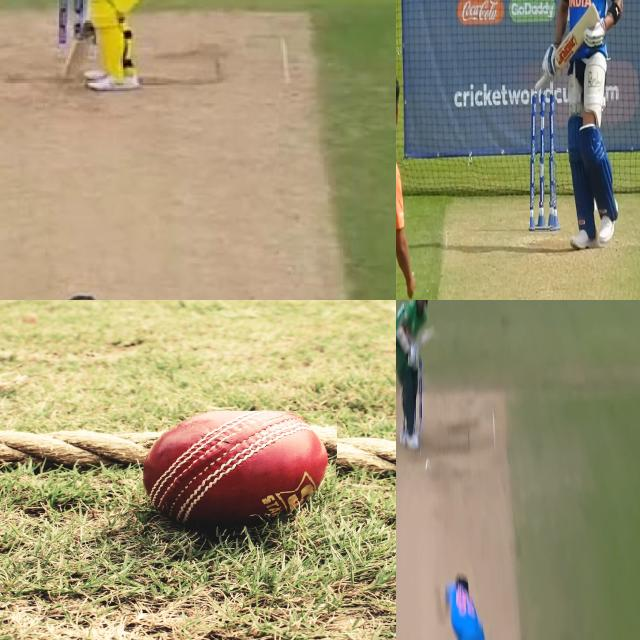Cricket ball: (139, 411, 338, 542), (425, 459, 431, 472)
Stumps: (530, 90, 557, 232)
